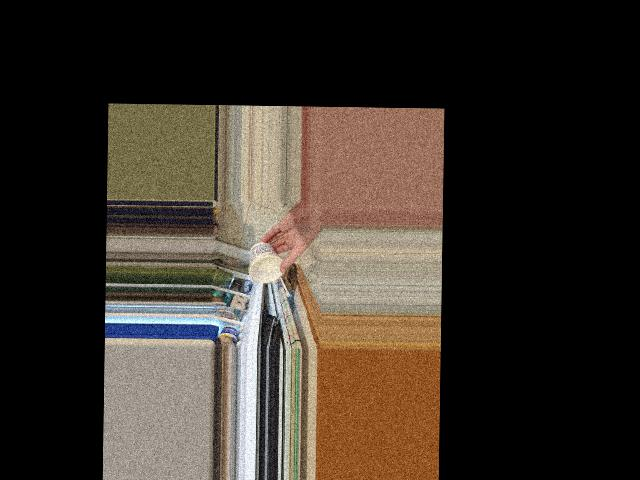cotage: (250, 243, 285, 278)
